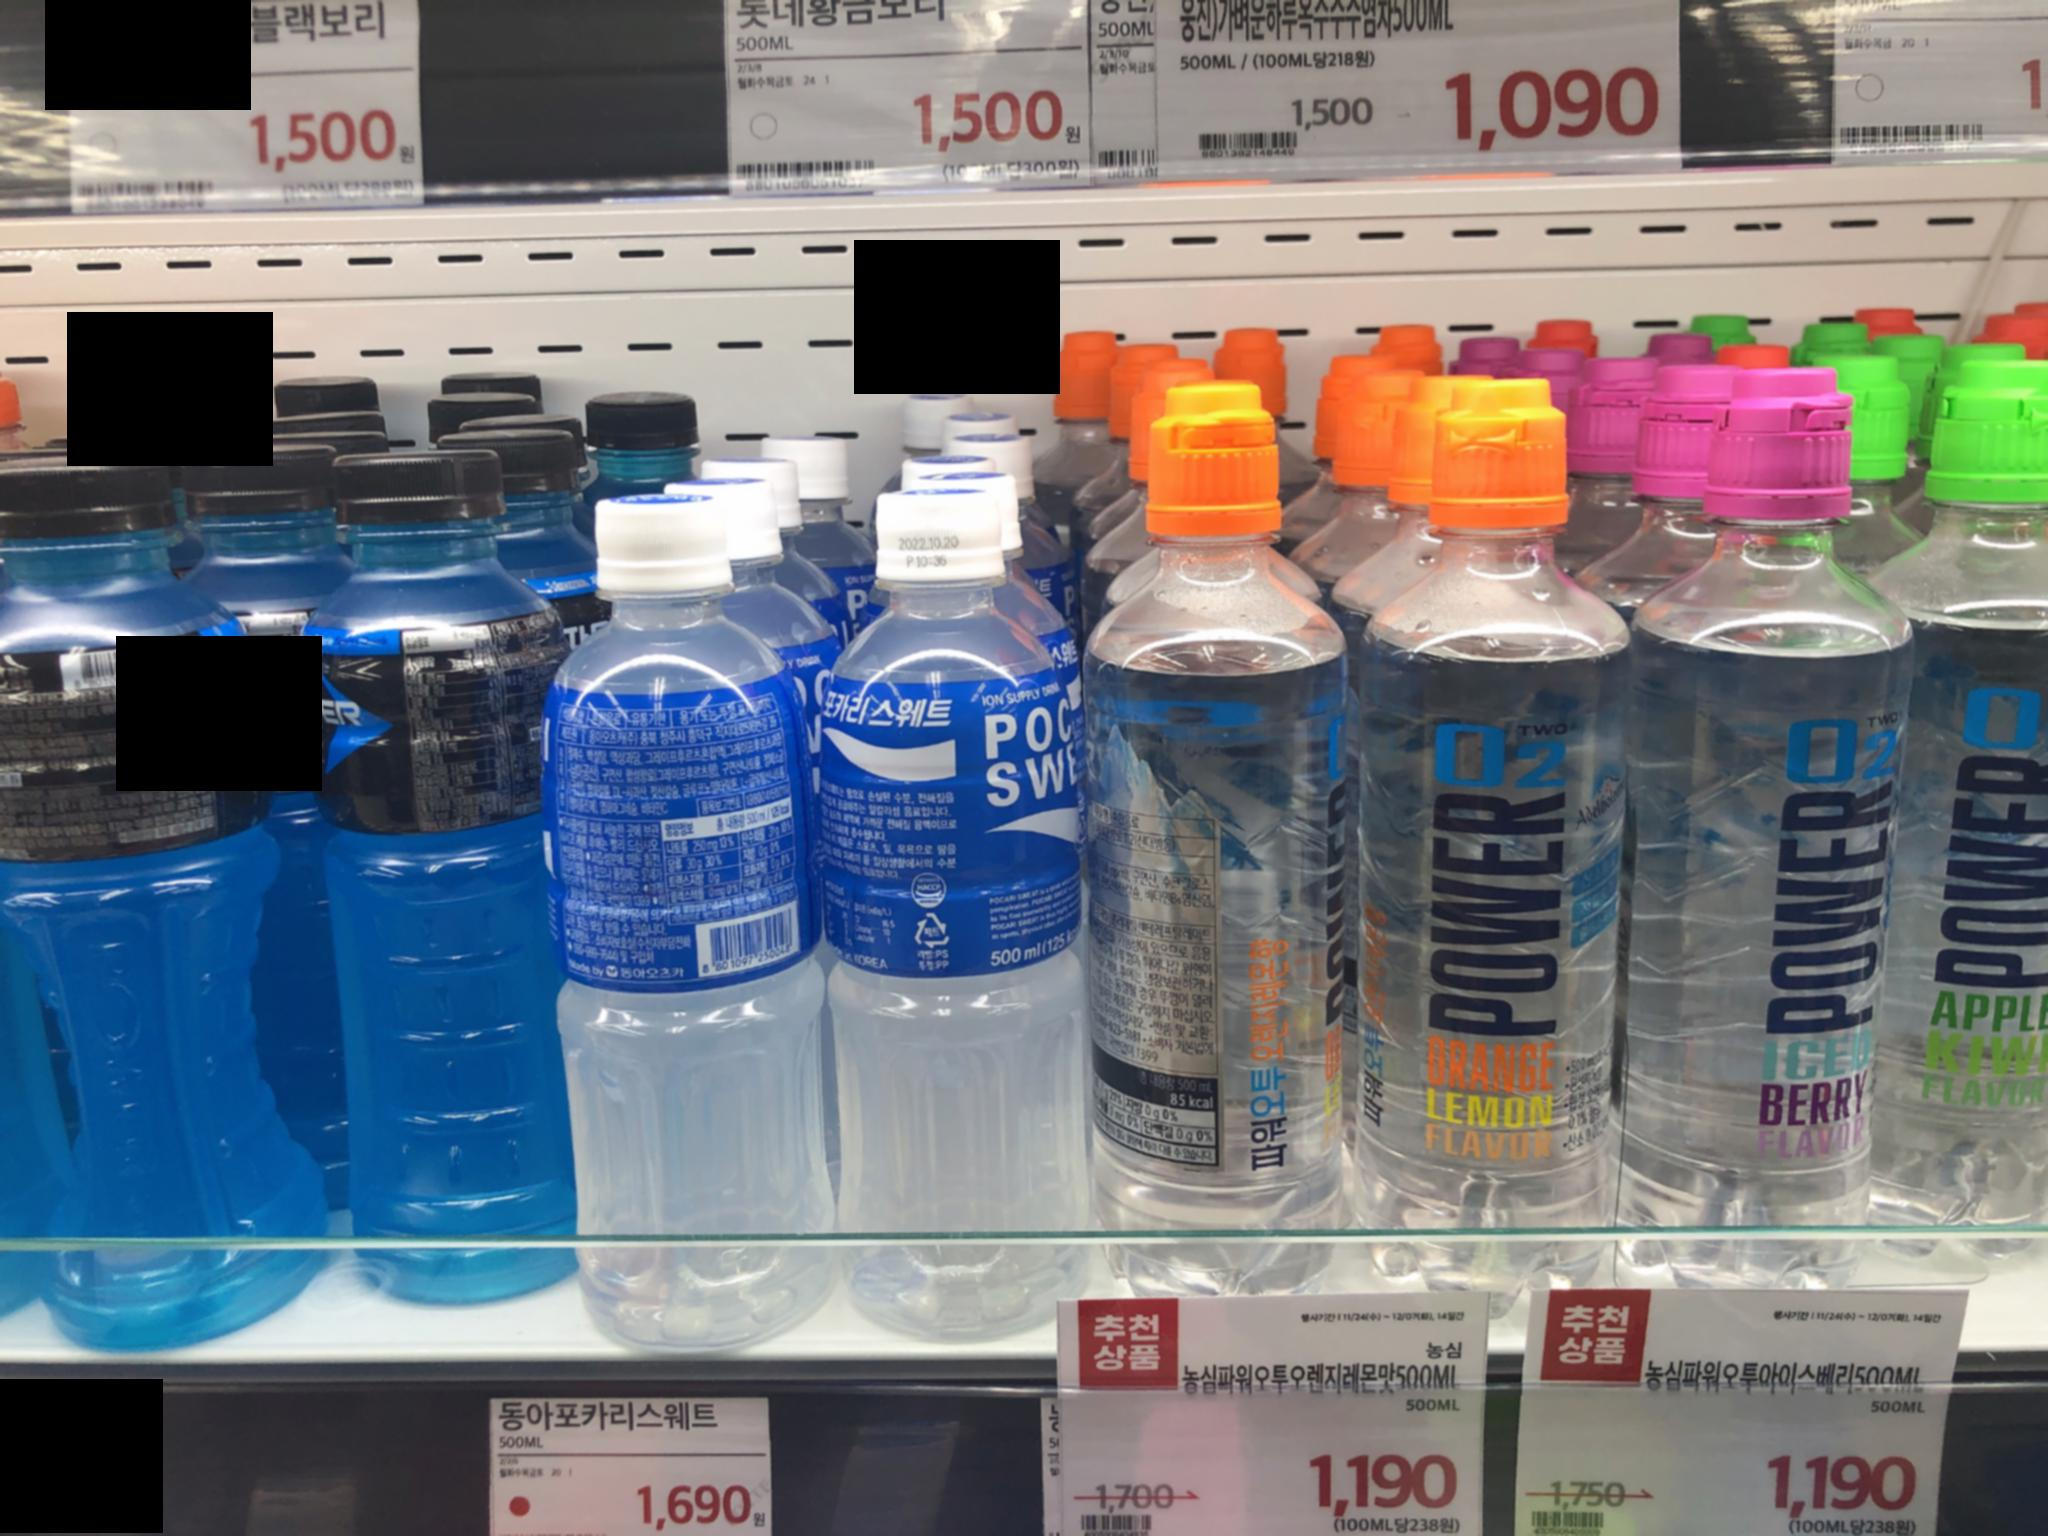pocarisweat: (537, 479, 824, 1359), (816, 468, 1098, 1349)
powerO2_orange: (1366, 373, 1669, 1283), (1082, 369, 1356, 1302)
powerade_mountainblast: (268, 458, 592, 1329)
